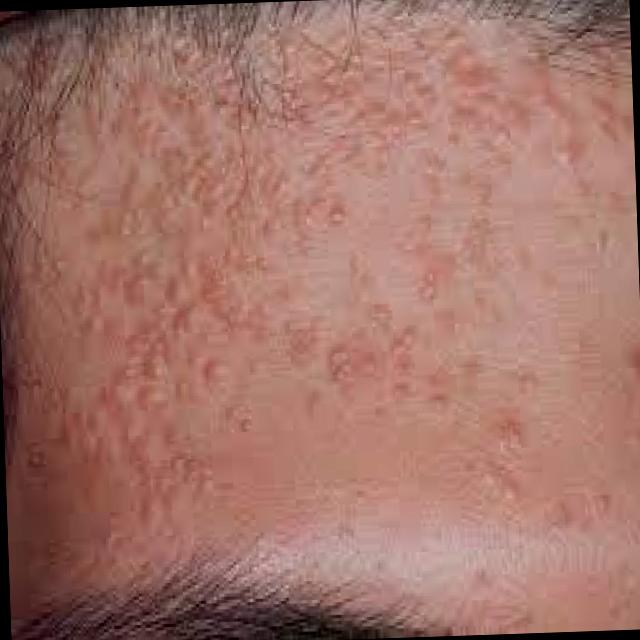fungal: (33, 58, 640, 543)
